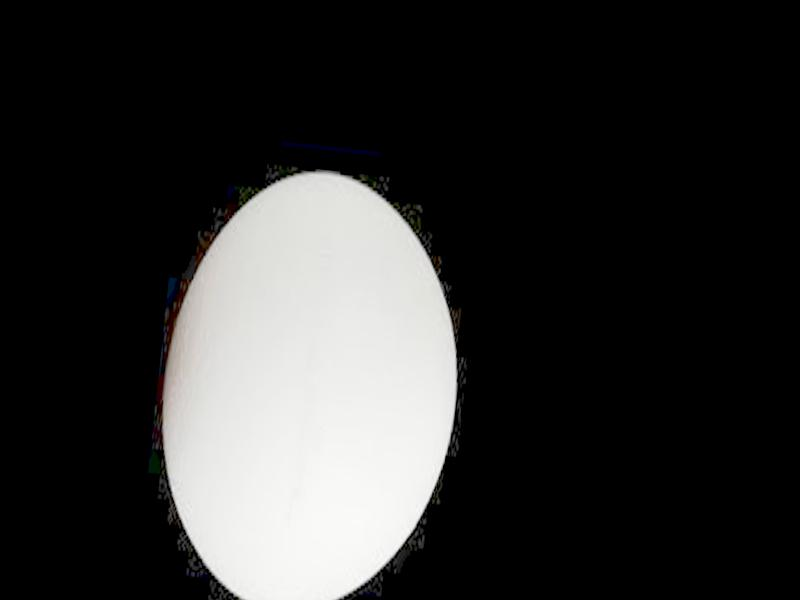Eggs: (140, 159, 476, 600)
